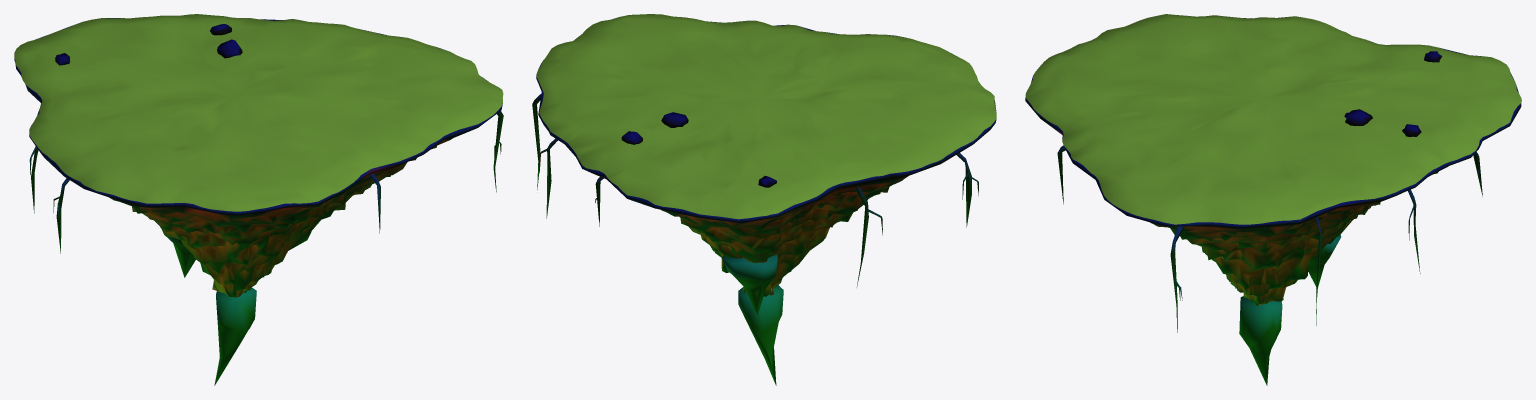
Rendered from SM_FloatingRock_A_L1.glb.
The picture shows the model from 3 angles, left to right: view 1: azimuth 30°, elevation 25°; view 2: azimuth 150°, elevation 25°; view 3: azimuth 270°, elevation 25°; orthographic projection. The views are drawn at different scales.
Visible parts, largest first — view 1: SM_FloatingRock_A; view 2: SM_FloatingRock_A; view 3: SM_FloatingRock_A.
Part boxes in pixels (box(x1,y1,x2,y2)): SM_FloatingRock_A: box(14, 14, 503, 385); SM_FloatingRock_A: box(532, 14, 996, 385); SM_FloatingRock_A: box(1025, 14, 1521, 385).
Bounding box in the file's own units: 13.43 × 8.91 × 13.16.
